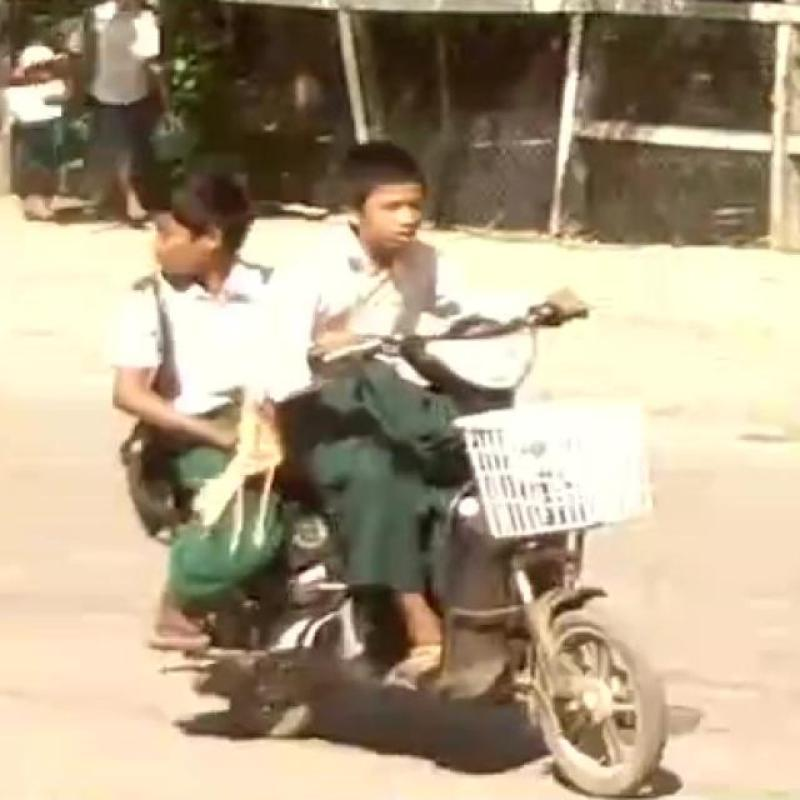nohelmet: (324, 127, 503, 302), (152, 179, 257, 299)
